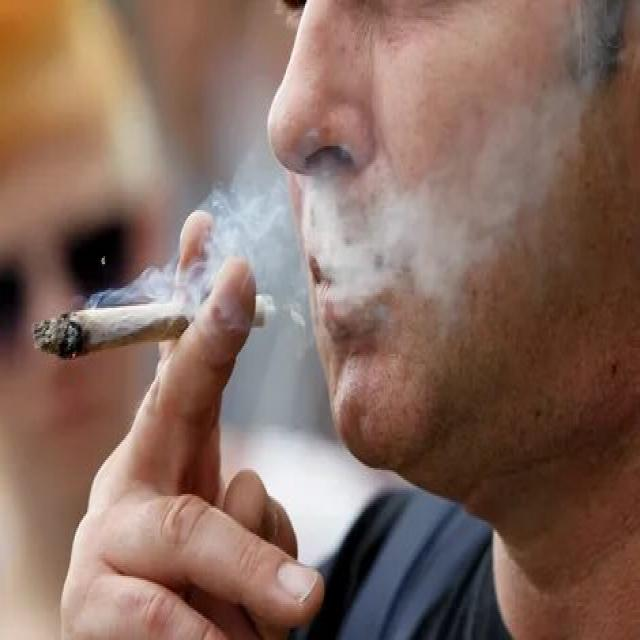smoke: (30, 290, 267, 366)
